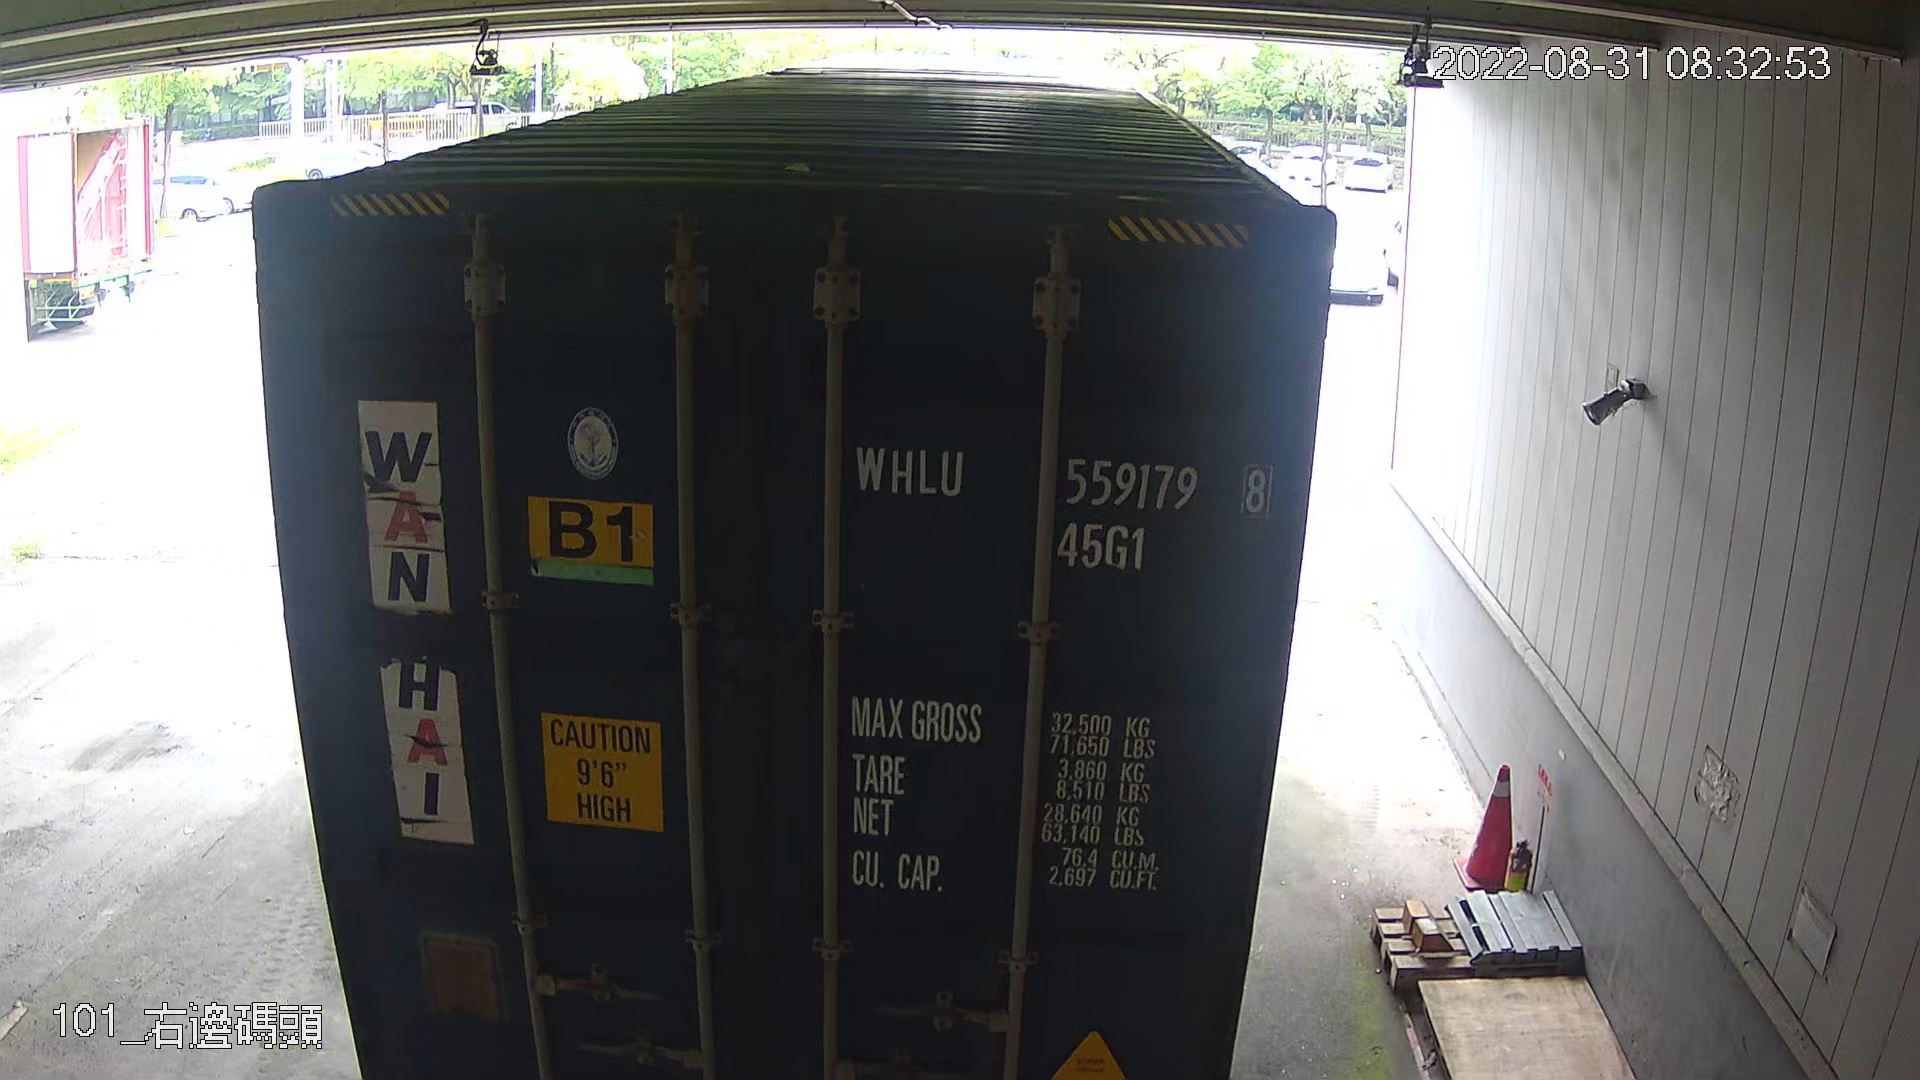container: (844, 423, 1284, 578)
